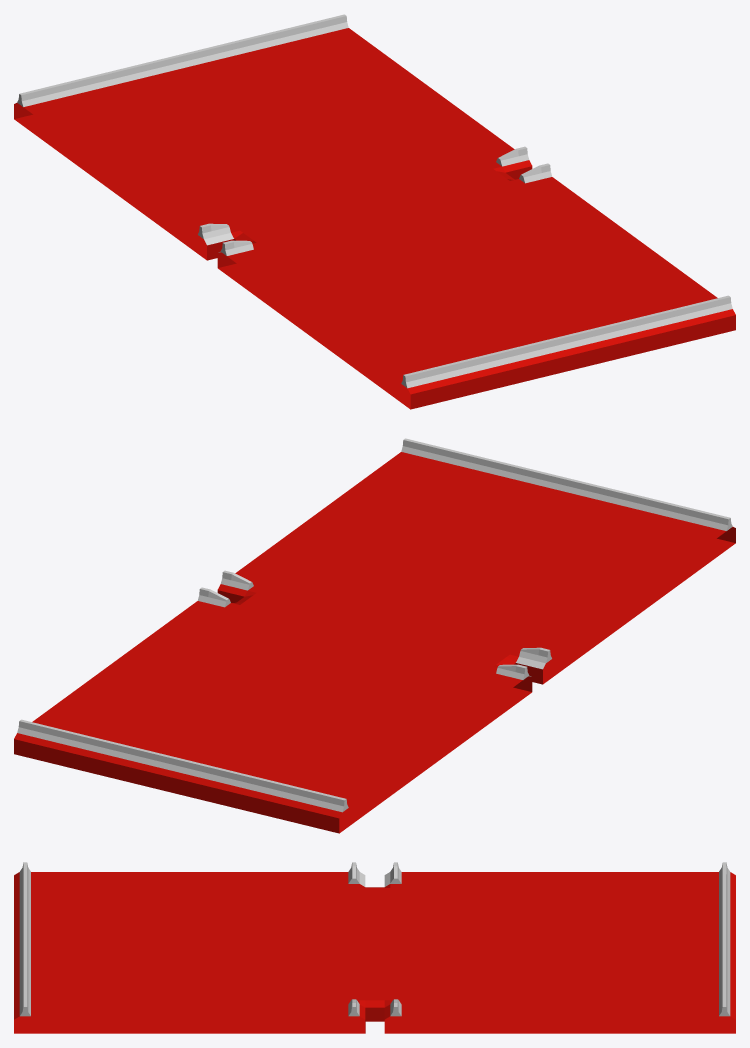
The model's file is SM_Road_Highway_NoMiddle.fbx.
3 views of the same model, one above another, from view 1: azimuth 30°, elevation 25°; view 2: azimuth 150°, elevation 25°; view 3: azimuth 270°, elevation 25° (orthographic). The views are drawn at different scales.
Visible parts, largest first — view 1: Cube.002; view 2: Cube.002; view 3: Cube.002.
Boxes of the visible parts, bbox=[...] form: Cube.002: bbox=[14, 14, 735, 409]; Cube.002: bbox=[14, 438, 735, 833]; Cube.002: bbox=[14, 862, 735, 1033].
Bounding box in the file's own units: 3600 × 310 × 7600.
